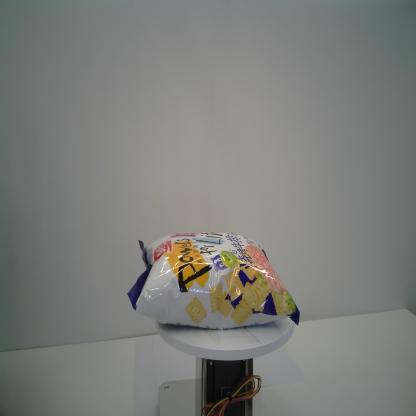Puffed Food: (123, 228, 300, 330)
